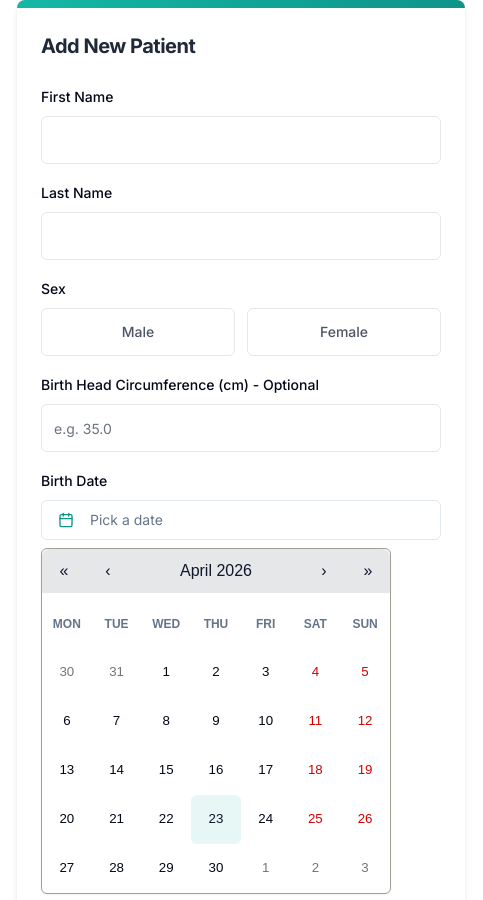
Test case: NewPatientForm › shows error for invalid birth head circumference
Type "99" into the field labelled "Birth Head Circumference (cm) - Optional" at (241, 428), box top-left (41, 404), bottom-right (441, 452)
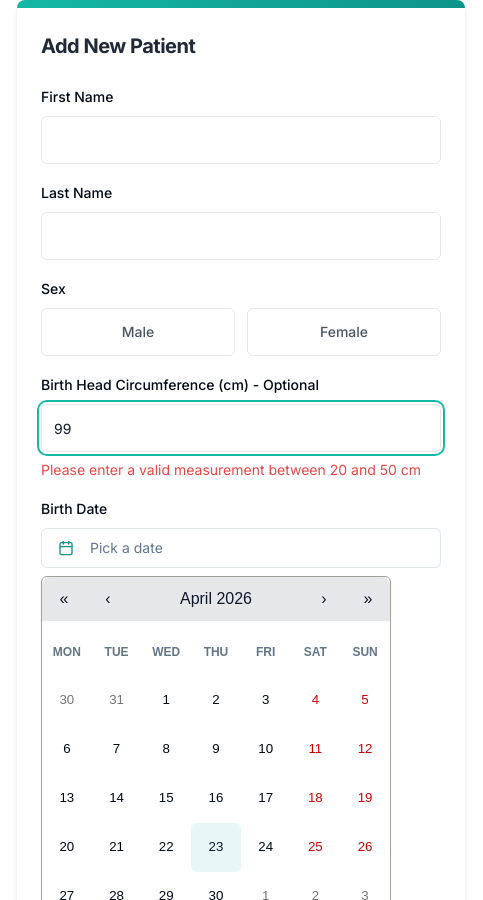
Now the text "Please enter a valid measurement between 20 and 50 cm" is shown, box top-left (41, 460), bottom-right (441, 480)
